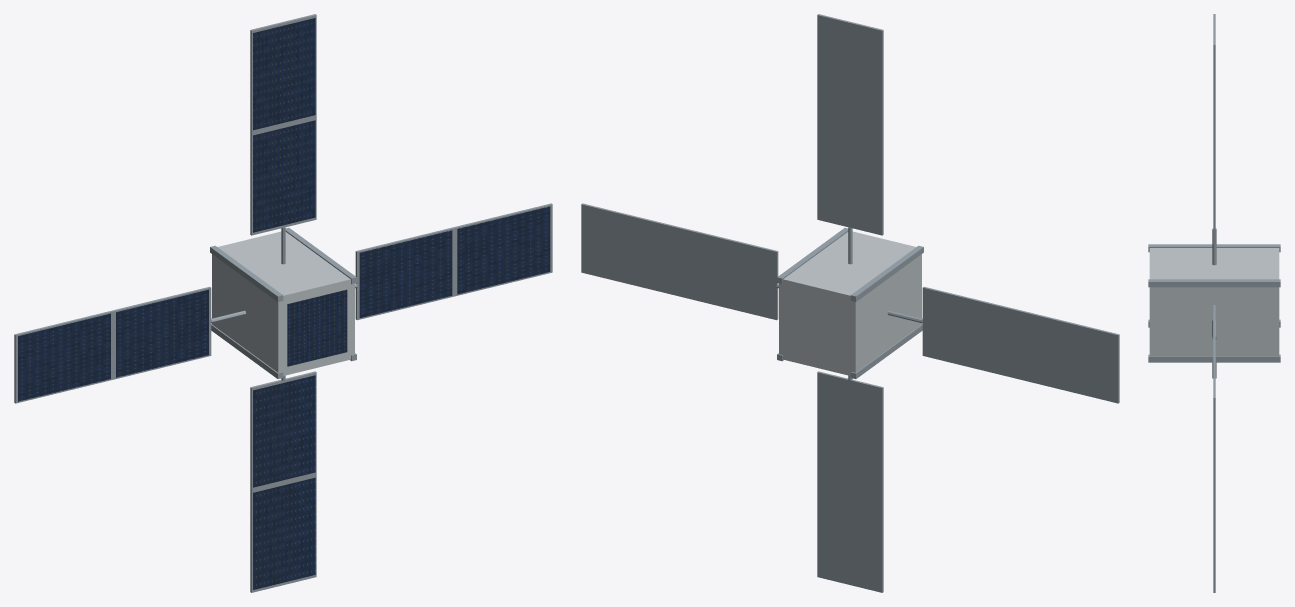
File: ref-cubesat-12u-43791.glb
The picture shows the model from 3 angles, left to right: view 1: azimuth 30°, elevation 25°; view 2: azimuth 150°, elevation 25°; view 3: azimuth 270°, elevation 25°; orthographic projection. The views are drawn at different scales.
Parts seen in each view (by area): view 1: Photovoltaic laminates (×8), Spacecraft body, Array frame (×8), Body-mounted cells, Dispenser rail; view 2: Array frame (×8), Spacecraft body, Dispenser rail; view 3: Spacecraft body, Dispenser rail (×3), Array frame (×4).
Boxes of the visible parts, box(x1,y1,x2,y2) form: Photovoltaic laminates (×8): box(18, 18, 550, 589); Spacecraft body: box(212, 231, 354, 375); Array frame (×8): box(14, 14, 552, 592); Body-mounted cells: box(287, 289, 347, 366); Dispenser rail: box(210, 245, 283, 301); Array frame (×8): box(581, 14, 1119, 592); Spacecraft body: box(779, 231, 921, 375); Dispenser rail: box(850, 245, 923, 301); Spacecraft body: box(1149, 248, 1279, 356); Dispenser rail (×3): box(1148, 244, 1280, 362); Array frame (×4): box(1213, 14, 1215, 592).
Bounding box in the file's own units: 1.4 × 1.4 × 0.306.
Materials: 3 (1 with a texture image).
